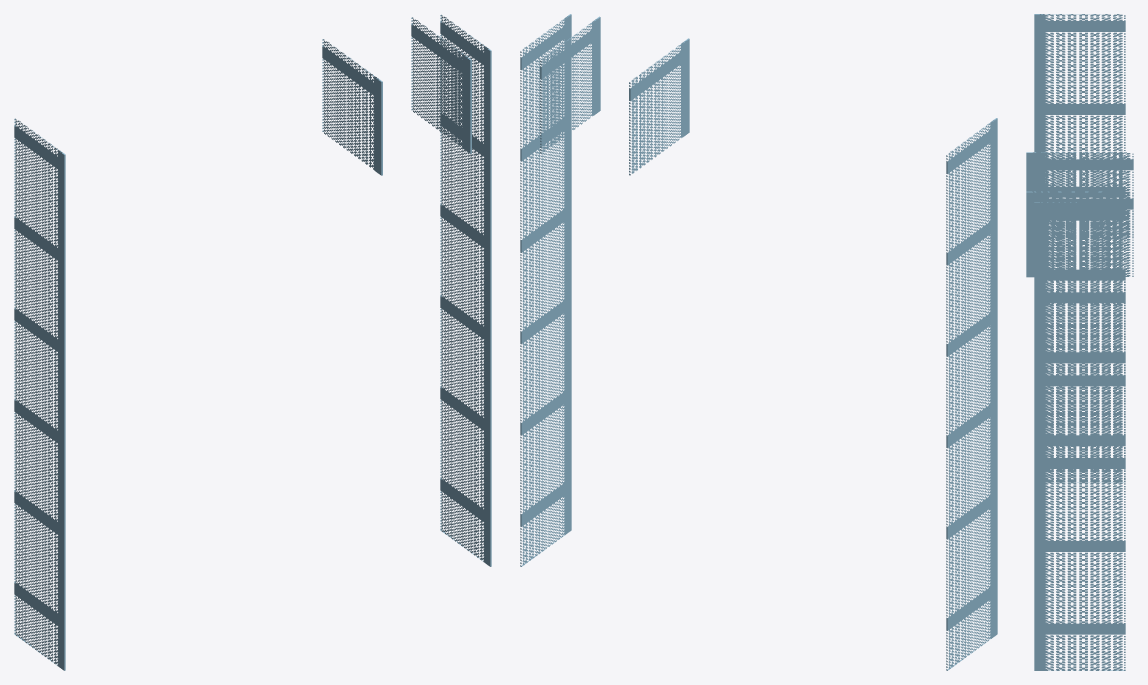
File: tt_struct_slide_slot_screens_r39.glb
The picture shows the model from 3 angles, left to right: view 1: azimuth 30°, elevation 25°; view 2: azimuth 150°, elevation 25°; view 3: azimuth 270°, elevation 25°; orthographic projection. The views are drawn at different scales.
Parts seen in each view (by area): view 1: Slot_Screen_Scissor; view 2: Slot_Screen_Scissor; view 3: Slot_Screen_Scissor.
Boxes of the visible parts, x1=… form: Slot_Screen_Scissor: x1=14, y1=14, x2=491, y2=670; Slot_Screen_Scissor: x1=520, y1=14, x2=997, y2=670; Slot_Screen_Scissor: x1=1026, y1=14, x2=1133, y2=670.
Size of what is drawn, in the model's own units: 4.9 by 5.65 by 1.18.
Materials: 1 (1 with a texture image).
